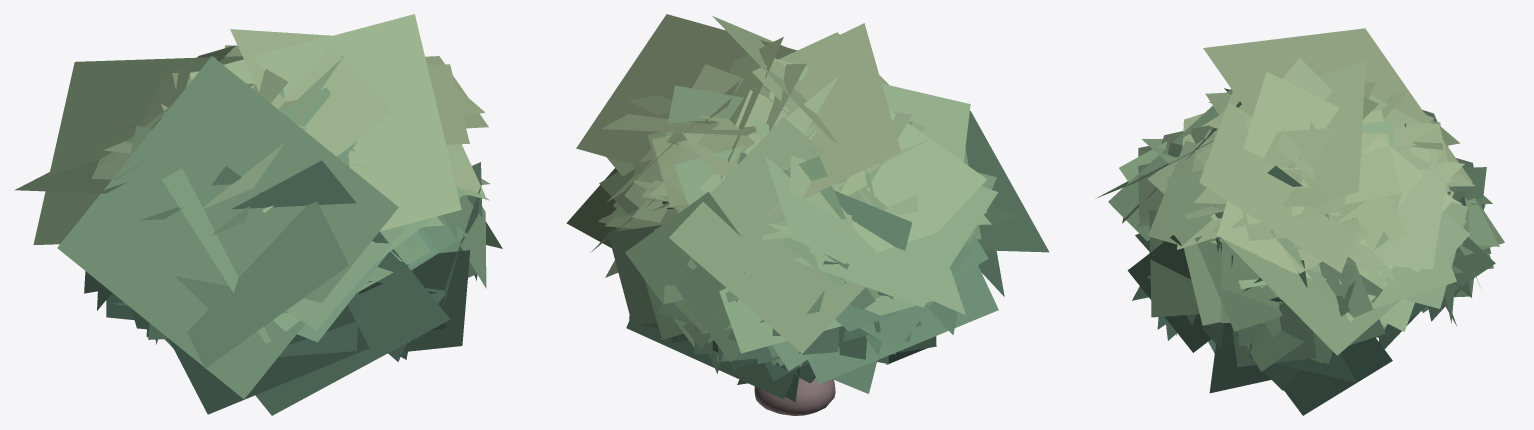
Rendered from ancient_oak_v2.glb.
3 renders of one model, left to right at view 1: azimuth 30°, elevation 25°; view 2: azimuth 150°, elevation 25°; view 3: azimuth 270°, elevation 25°, orthographic. The views are drawn at different scales.
Visible parts, largest first — view 1: far, near; view 2: far, near; view 3: far, near.
Boxes of the visible parts, x1,y1,x2,y2 form: far: [14, 14, 489, 415]; near: [84, 45, 502, 361]; far: [566, 14, 1049, 402]; near: [590, 64, 1020, 415]; far: [1095, 28, 1472, 415]; near: [1127, 88, 1504, 390].
Bounding box in the file's own units: 22.31 × 17 × 20.05.
